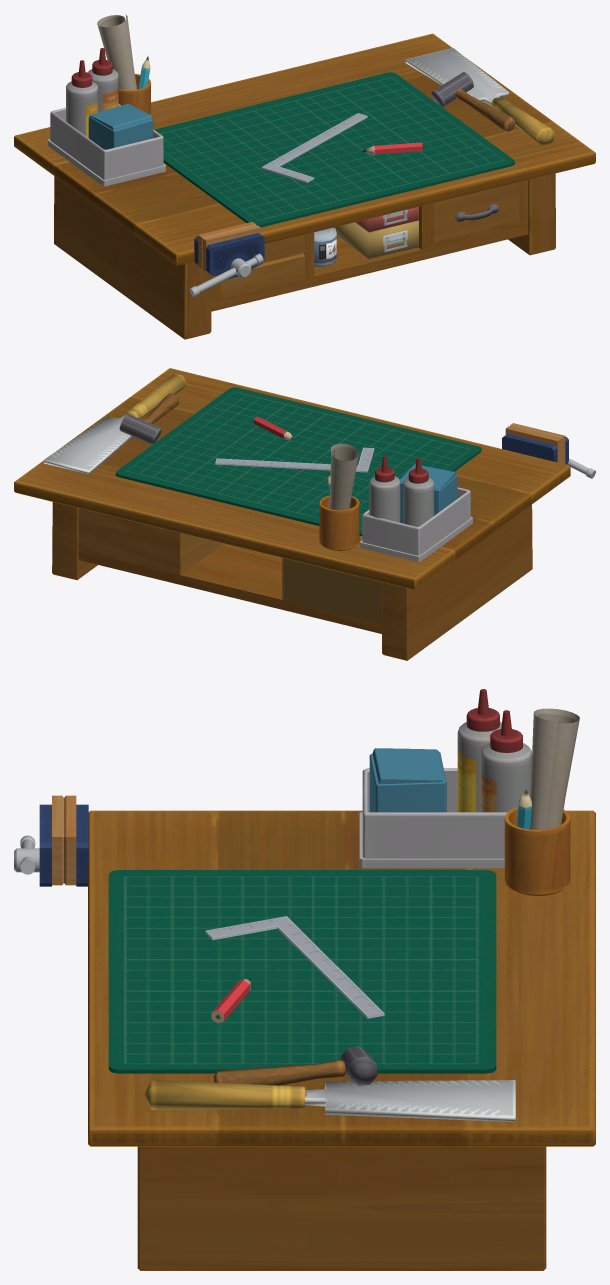
Rendered from Workbench.glb.
3 renders of one model, top to bottom at view 1: azimuth 30°, elevation 25°; view 2: azimuth 150°, elevation 25°; view 3: azimuth 270°, elevation 25°, orthographic. The views are drawn at different scales.
Parts seen in each view (by area): view 1: Workbench; view 2: Workbench; view 3: Workbench.
Part boxes in pixels (box(x1,y1,x2,y2)): Workbench: box(14, 14, 595, 339); Workbench: box(14, 368, 595, 660); Workbench: box(14, 689, 595, 1270).
Bounding box in the file's own units: 3.13 × 1.47 × 2.39.
Materials: 1 (1 with a texture image).
